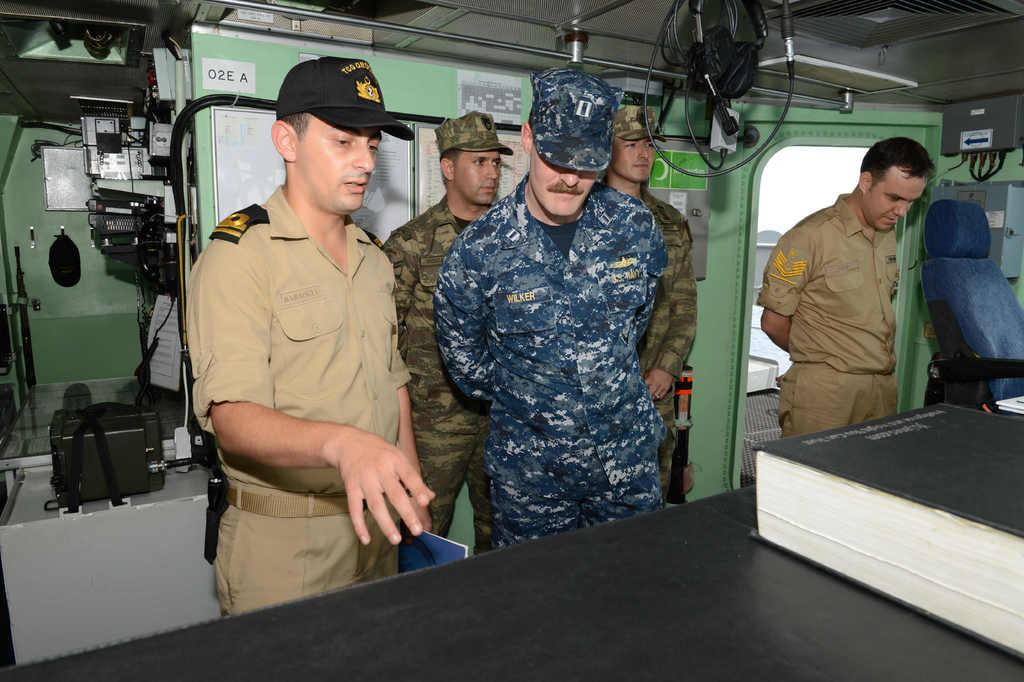Hat: (275, 51, 411, 144), (530, 69, 612, 169), (434, 108, 508, 154), (612, 105, 663, 143)
